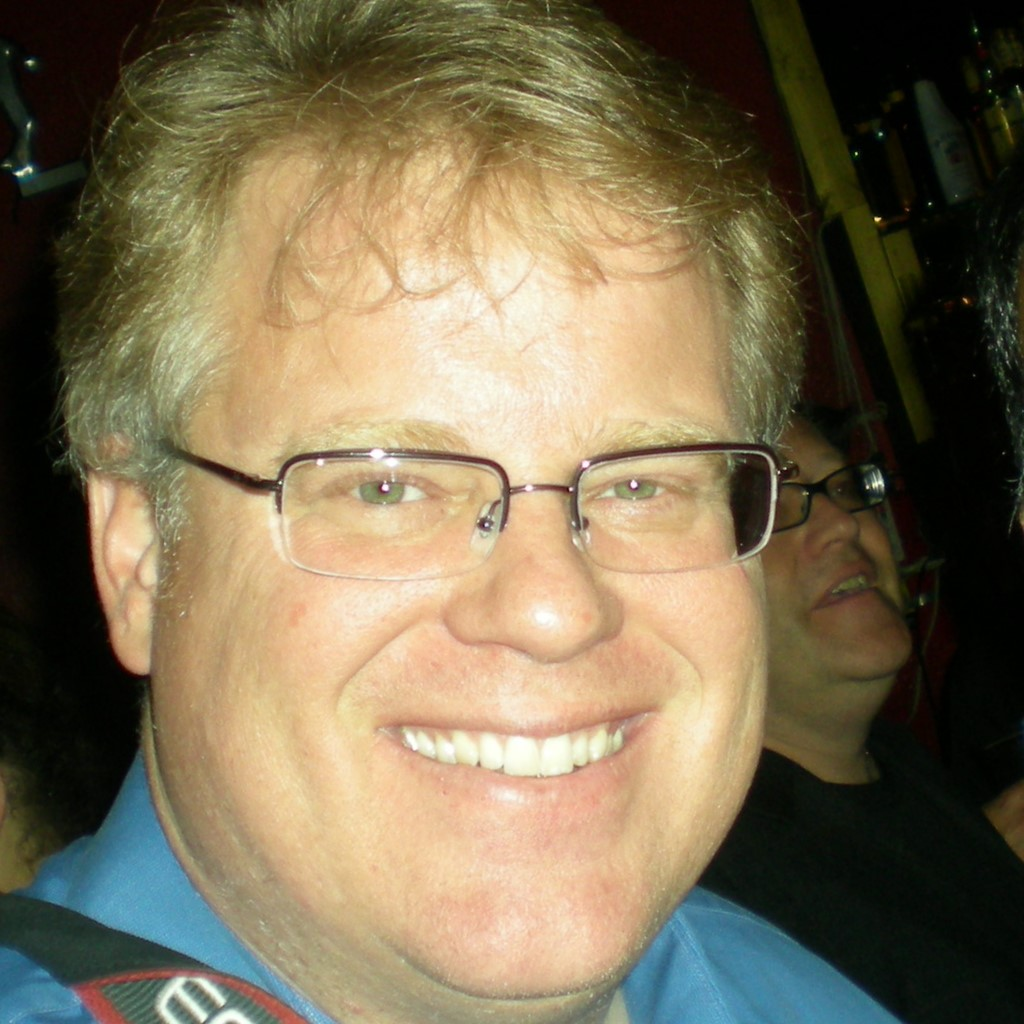sin_mascara: (71, 69, 776, 1013)
